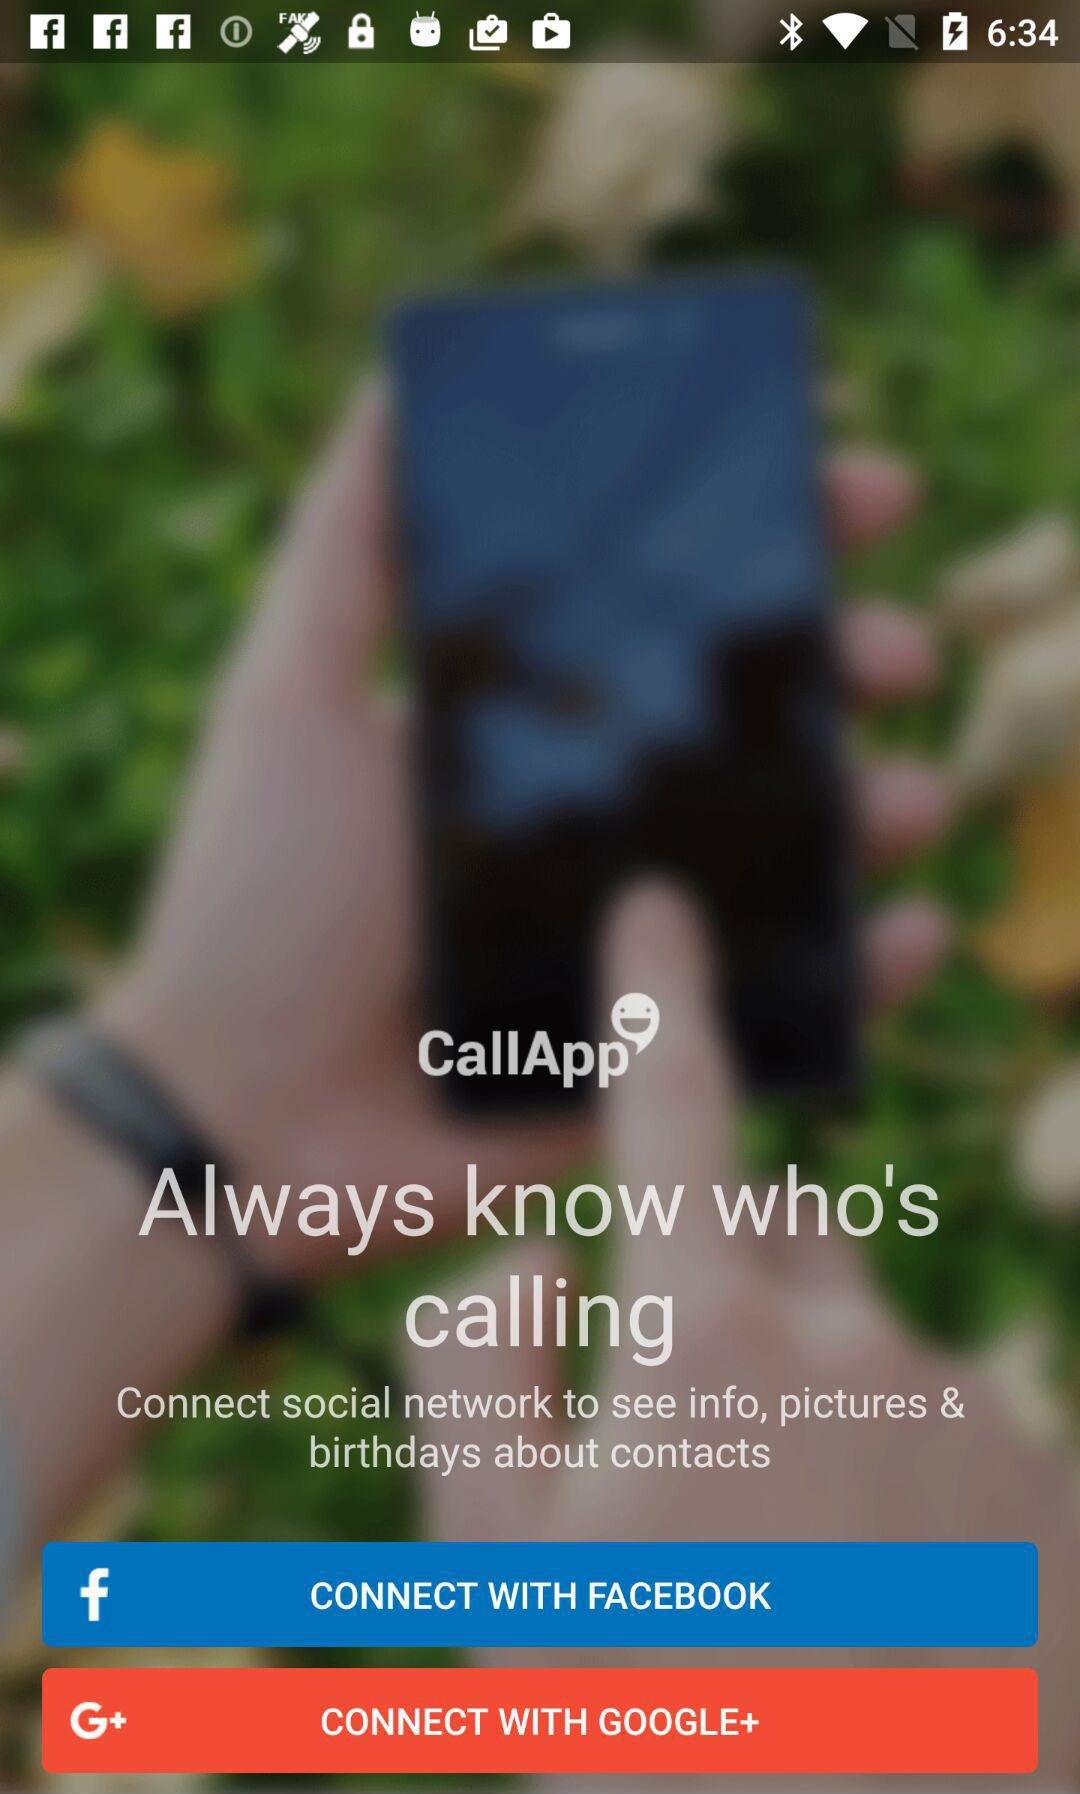BackgroundImage: (1, 64, 1080, 1794)
Image: (418, 992, 662, 1090)
Text: (138, 1164, 940, 1369), (117, 1384, 966, 1477)
TextButton: (42, 1667, 1039, 1773), (42, 1542, 1039, 1648)
UpperTaskBar: (1, 1, 1080, 64)
